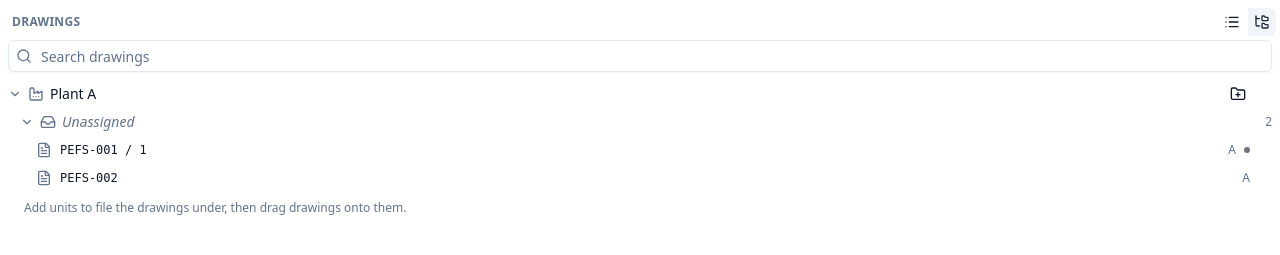
Scenario: drawing list organised by plant unit (DRW-11) › adds a unit from the plant and files drawings dropped on it
Step 1. Click the button named "Add unit" → click(1238, 94), box [1226,82,1250,106]
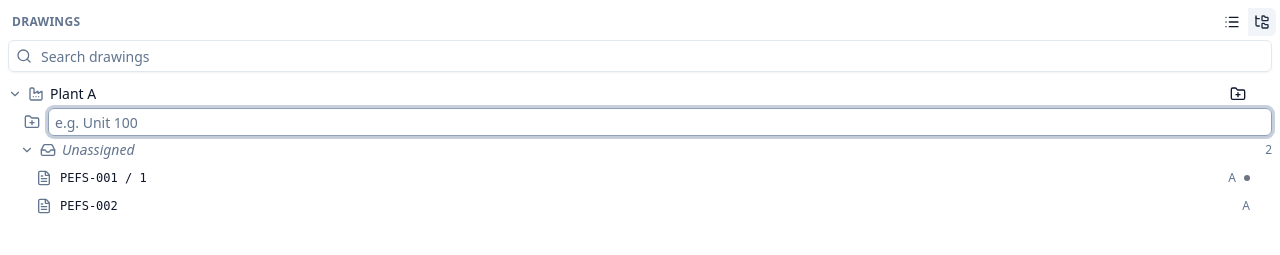
Step 2. Type "Unit 100" into the field with test id "unit-name" → (660, 122), box [48,108,1272,136]
Then press Enter
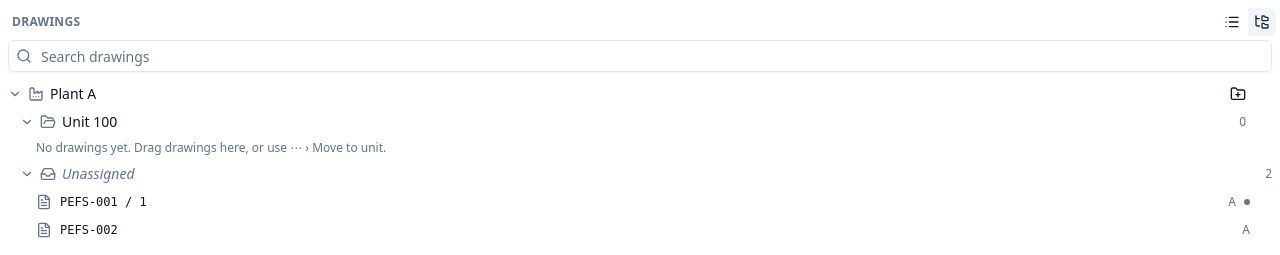
Check: the button "Unit 100 0" is shown, box [16,108,1250,136]
